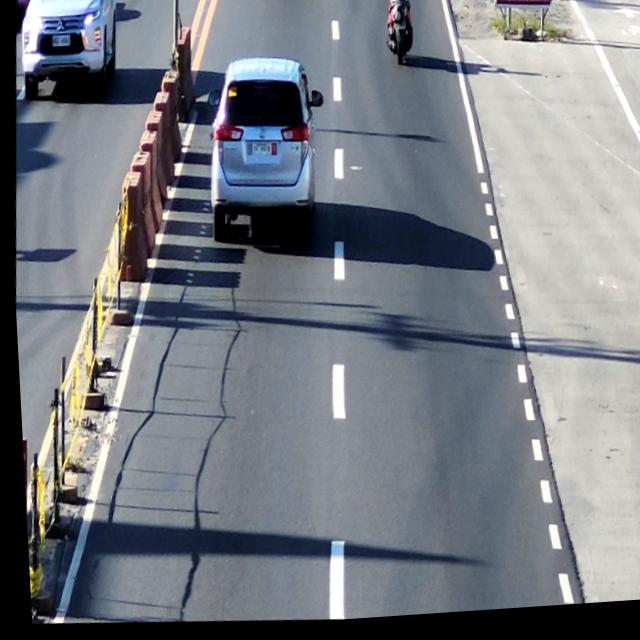Car: (207, 58, 326, 242)
License-Plate: (244, 137, 277, 162)
Motorcycle: (383, 0, 420, 71)
